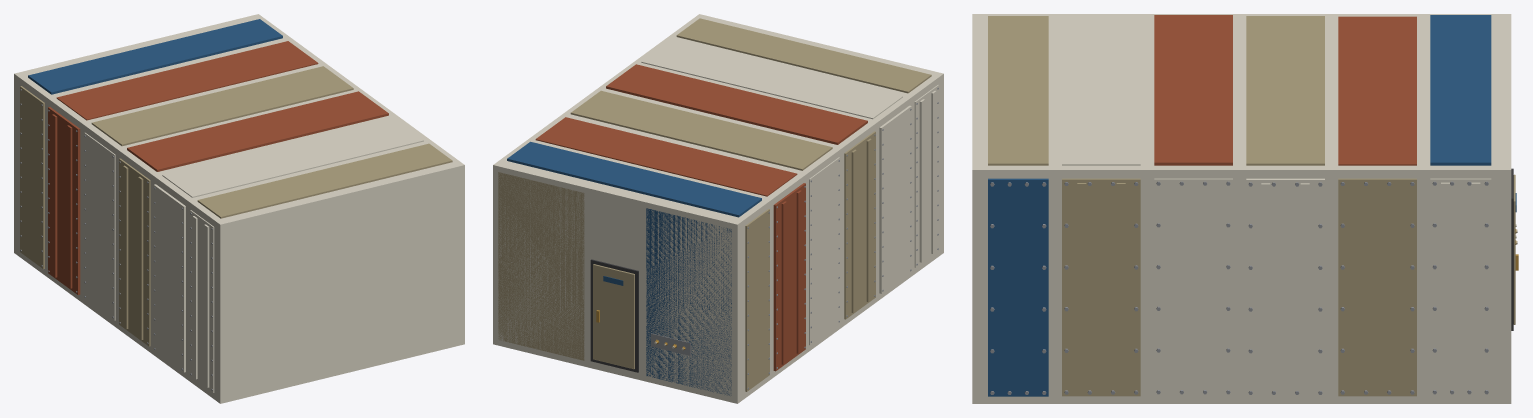
The model's file is hold100_shell.obj.
The picture shows the model from 3 angles, left to right: view 1: azimuth 30°, elevation 25°; view 2: azimuth 150°, elevation 25°; view 3: azimuth 270°, elevation 25°; orthographic projection. The views are drawn at different scales.
Parts seen in each view (by area): view 1: hold100_shell; view 2: hold100_shell; view 3: hold100_shell.
Part boxes in pixels (x1,y1,x2,y2): hold100_shell: [14, 14, 464, 403]; hold100_shell: [493, 14, 943, 403]; hold100_shell: [972, 14, 1518, 403].
Bounding box in the file's own units: 5.11 × 3.58 × 7.34.
